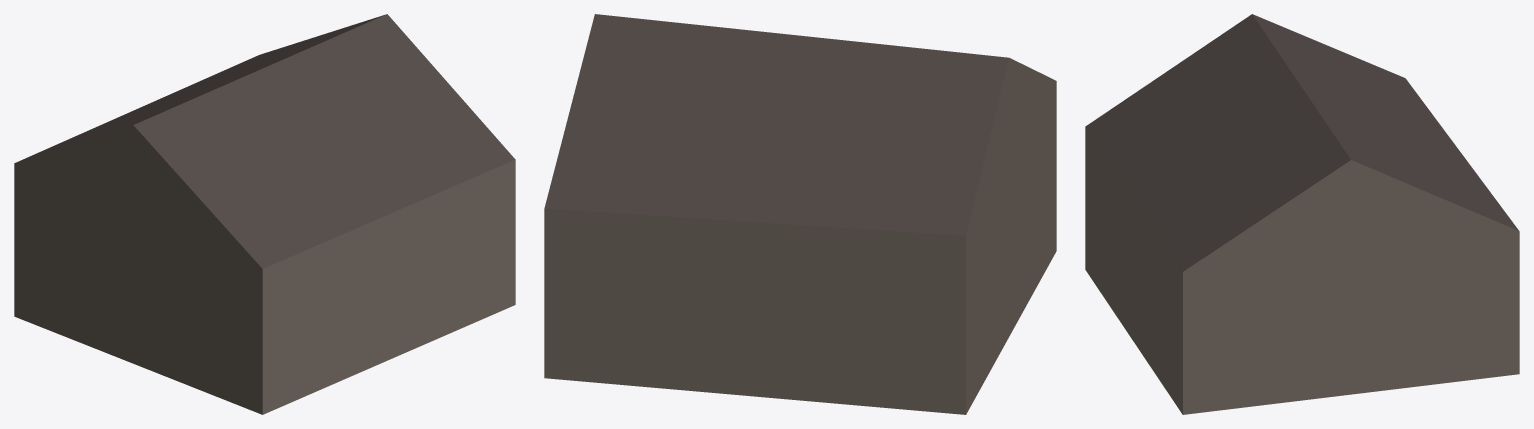
3 views of the same model, side by side, from view 1: azimuth 30°, elevation 25°; view 2: azimuth 150°, elevation 25°; view 3: azimuth 270°, elevation 25° (orthographic). The views are drawn at different scales.
Parts seen in each view (by area): view 1: HP-w783664799; view 2: HP-w783664799; view 3: HP-w783664799.
Part boxes in pixels (left/top/right/bottom): HP-w783664799: left=14, top=14, right=515, bottom=414; HP-w783664799: left=544, top=14, right=1056, bottom=414; HP-w783664799: left=1085, top=14, right=1519, bottom=414.
Bounding box in the file's own units: 16.74 × 9.85 × 16.51.
